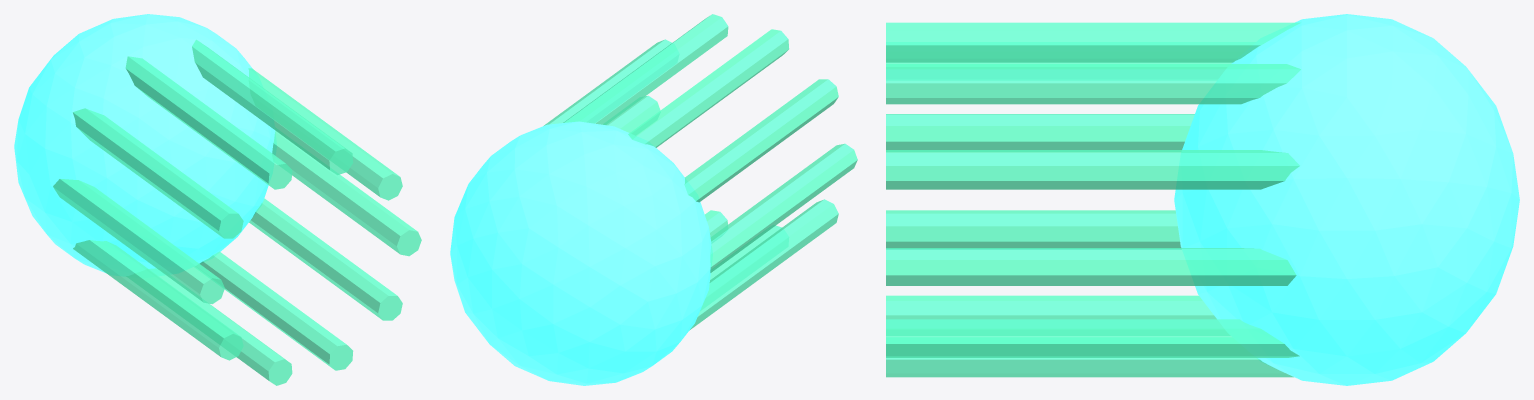
File: 20_Bioluminescent_Anemone.glb
3 renders of one model, left to right at view 1: azimuth 30°, elevation 25°; view 2: azimuth 150°, elevation 25°; view 3: azimuth 270°, elevation 25°, orthographic. The views are drawn at different scales.
Parts seen in each view (by area): view 1: 20_Bioluminescent_Anemone_00, 20_Bioluminescent_Anemone_05, 20_Bioluminescent_Anemone_06, 20_Bioluminescent_Anemone_04, 20_Bioluminescent_Anemone_07, 20_Bioluminescent_Anemone_03, 20_Bioluminescent_Anemone_10, 20_Bioluminescent_Anemone_01, 20_Bioluminescent_Anemone_09, 20_Bioluminescent_Anemone_02, 20_Bioluminescent_Anemone_08; view 2: 20_Bioluminescent_Anemone_00, 20_Bioluminescent_Anemone_05, 20_Bioluminescent_Anemone_06, 20_Bioluminescent_Anemone_04, 20_Bioluminescent_Anemone_03, 20_Bioluminescent_Anemone_07, 20_Bioluminescent_Anemone_02, 20_Bioluminescent_Anemone_01, 20_Bioluminescent_Anemone_08, 20_Bioluminescent_Anemone_09; view 3: 20_Bioluminescent_Anemone_00, 20_Bioluminescent_Anemone_03, 20_Bioluminescent_Anemone_02, 20_Bioluminescent_Anemone_04, 20_Bioluminescent_Anemone_01, 20_Bioluminescent_Anemone_10, 20_Bioluminescent_Anemone_07, 20_Bioluminescent_Anemone_06, 20_Bioluminescent_Anemone_08, 20_Bioluminescent_Anemone_09, 20_Bioluminescent_Anemone_05.
Boxes of the visible parts, x1,y1,x2,y2 form: 20_Bioluminescent_Anemone_00: (14,14,276,275); 20_Bioluminescent_Anemone_05: (73,108,243,238); 20_Bioluminescent_Anemone_06: (53,179,224,304); 20_Bioluminescent_Anemone_04: (125,56,292,189); 20_Bioluminescent_Anemone_07: (73,240,243,360); 20_Bioluminescent_Anemone_03: (192,39,353,175); 20_Bioluminescent_Anemone_10: (249,198,402,320); 20_Bioluminescent_Anemone_01: (272,130,421,256); 20_Bioluminescent_Anemone_09: (199,251,353,370); 20_Bioluminescent_Anemone_02: (248,68,402,200); 20_Bioluminescent_Anemone_08: (148,268,292,385); 20_Bioluminescent_Anemone_00: (450,121,712,385); 20_Bioluminescent_Anemone_05: (684,79,838,202); 20_Bioluminescent_Anemone_06: (710,143,857,272); 20_Bioluminescent_Anemone_04: (628,29,789,147); 20_Bioluminescent_Anemone_03: (563,14,728,124); 20_Bioluminescent_Anemone_07: (689,199,838,330); 20_Bioluminescent_Anemone_02: (544,39,671,125); 20_Bioluminescent_Anemone_01: (606,95,660,132); 20_Bioluminescent_Anemone_08: (710,225,781,280); 20_Bioluminescent_Anemone_09: (705,210,727,237); 20_Bioluminescent_Anemone_00: (1174,14,1519,385); 20_Bioluminescent_Anemone_03: (886,64,1300,104); 20_Bioluminescent_Anemone_02: (886,150,1299,189); 20_Bioluminescent_Anemone_04: (886,22,1300,62); 20_Bioluminescent_Anemone_01: (886,248,1296,285); 20_Bioluminescent_Anemone_10: (886,319,1299,357); 20_Bioluminescent_Anemone_07: (886,210,1181,247); 20_Bioluminescent_Anemone_06: (886,114,1194,149); 20_Bioluminescent_Anemone_08: (886,295,1216,319); 20_Bioluminescent_Anemone_09: (886,358,1293,377); 20_Bioluminescent_Anemone_05: (886,62,1232,63).
Bounding box in the file's own units: 1.3 × 1.3 × 2.2.
